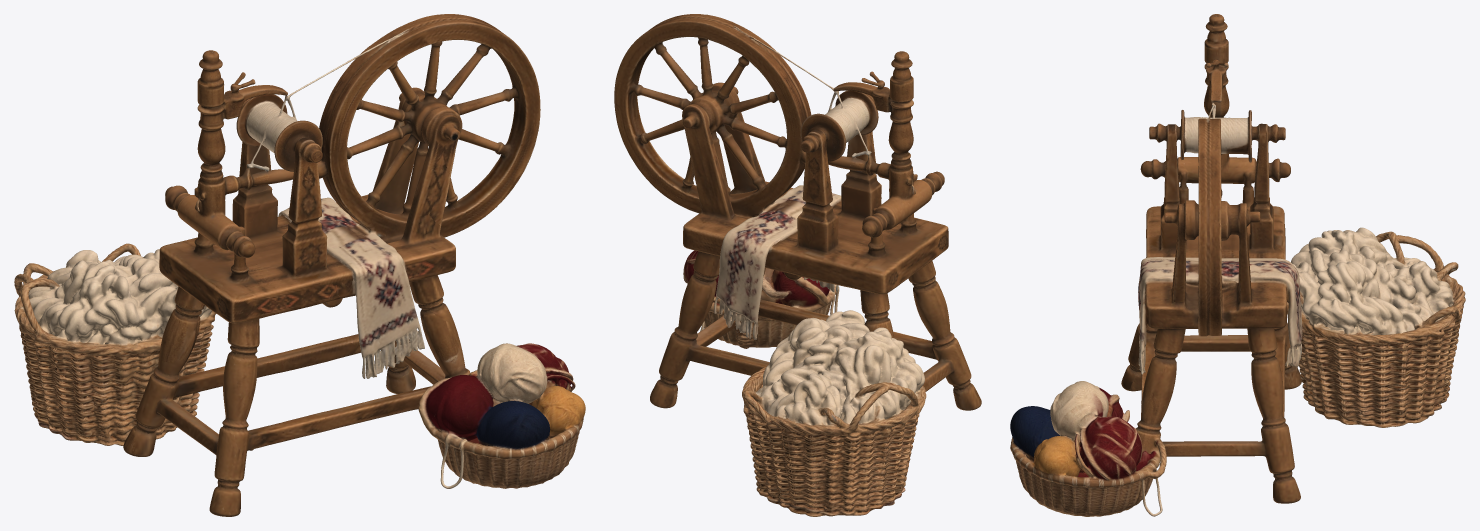
File: yun_ayiklama.glb
3 views of the same model, side by side, from view 1: azimuth 30°, elevation 25°; view 2: azimuth 150°, elevation 25°; view 3: azimuth 270°, elevation 25° (orthographic). The views are drawn at different scales.
Size of the model in its own units: 1.85 by 1.77 by 1.9.
1 material, 1 textured.
